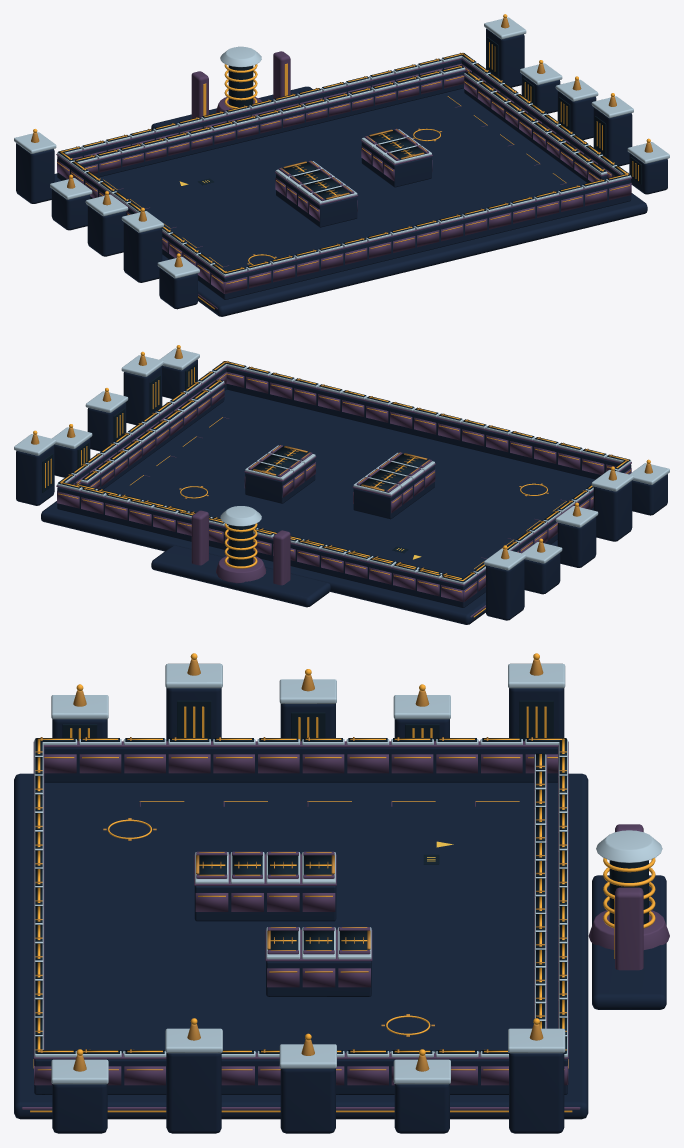
Rendered from forge.glb.
3 renders of one model, top to bottom at view 1: azimuth 30°, elevation 25°; view 2: azimuth 150°, elevation 25°; view 3: azimuth 270°, elevation 25°, orthographic. The views are drawn at different scales.
Parts seen in each view (by area): view 1: Raised orbital deck, SOLID 1 border, SOLID 6 reflector, SOLID 0 border, Exterior dock pylon.003, Exterior dock pylon, Exterior dock pylon.002, Exterior dock pylon.008, SOLID 4 cover, Exterior dock pylon.005, SOLID 7 reflector, SOLID 5 cover (+24 smaller); view 2: Raised orbital deck, SOLID 1 border, SOLID 0 border, Horizon installation platform, Exterior dock pylon, Exterior dock pylon.003, Exterior dock pylon.005, Exterior dock pylon.002, SOLID 4 cover, Exterior dock pylon.008, SOLID 5 cover, SOLID 7 reflector (+24 smaller); view 3: Raised orbital deck, SOLID 2 border, Horizon installation platform, SOLID 3 border, Exterior dock pylon.005, Exterior dock pylon.008, Exterior dock pylon.007, Exterior dock pylon.006, Exterior dock pylon.009, SOLID 4 cover, Reactor retaining arm.001, SOLID 5 cover (+38 smaller).
Boxes of the visible parts, bbox=[...] form: Raised orbital deck: bbox=[54, 88, 647, 316]; SOLID 1 border: bbox=[222, 179, 631, 299]; SOLID 6 reflector: bbox=[81, 71, 464, 177]; SOLID 0 border: bbox=[68, 59, 461, 158]; Exterior dock pylon.003: bbox=[123, 222, 162, 282]; Exterior dock pylon: bbox=[16, 143, 54, 203]; Exterior dock pylon.002: bbox=[87, 205, 126, 256]; Exterior dock pylon.008: bbox=[593, 107, 632, 166]; SOLID 4 cover: bbox=[276, 174, 357, 227]; Exterior dock pylon.005: bbox=[486, 28, 524, 87]; SOLID 7 reflector: bbox=[464, 77, 607, 183]; SOLID 5 cover: bbox=[361, 142, 431, 187]; Raised orbital deck: bbox=[41, 389, 594, 624]; SOLID 1 border: bbox=[226, 367, 630, 479]; SOLID 0 border: bbox=[57, 487, 466, 607]; Horizon installation platform: bbox=[151, 545, 330, 607]; Exterior dock pylon: bbox=[486, 560, 524, 620]; Exterior dock pylon.003: bbox=[593, 481, 632, 541]; Exterior dock pylon.005: bbox=[16, 445, 54, 505]; Exterior dock pylon.002: bbox=[557, 517, 596, 567]; SOLID 4 cover: bbox=[353, 465, 434, 519]; Exterior dock pylon.008: bbox=[123, 366, 162, 425]; SOLID 5 cover: bbox=[245, 458, 315, 503]; SOLID 7 reflector: bbox=[81, 385, 224, 489]; Raised orbital deck: bbox=[14, 773, 588, 1119]; SOLID 2 border: bbox=[44, 747, 557, 782]; Horizon installation platform: bbox=[592, 875, 666, 1009]; SOLID 3 border: bbox=[34, 1059, 567, 1094]; Exterior dock pylon.005: bbox=[509, 1053, 564, 1133]; Exterior dock pylon.008: bbox=[166, 1053, 221, 1133]; Exterior dock pylon.007: bbox=[280, 1068, 335, 1133]; Exterior dock pylon.006: bbox=[394, 1084, 449, 1133]; Exterior dock pylon.009: bbox=[52, 1084, 107, 1133]; SOLID 4 cover: bbox=[194, 886, 336, 921]; Reactor retaining arm.001: bbox=[615, 887, 643, 970]; SOLID 5 cover: bbox=[266, 961, 371, 996].
Bounding box in the file's own units: 25.51 × 3.68 × 18.39.
